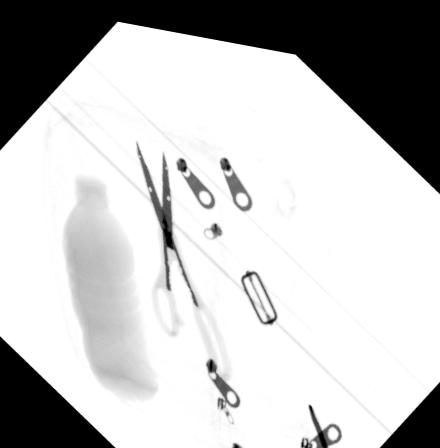Scissors: (134, 130, 231, 370)
